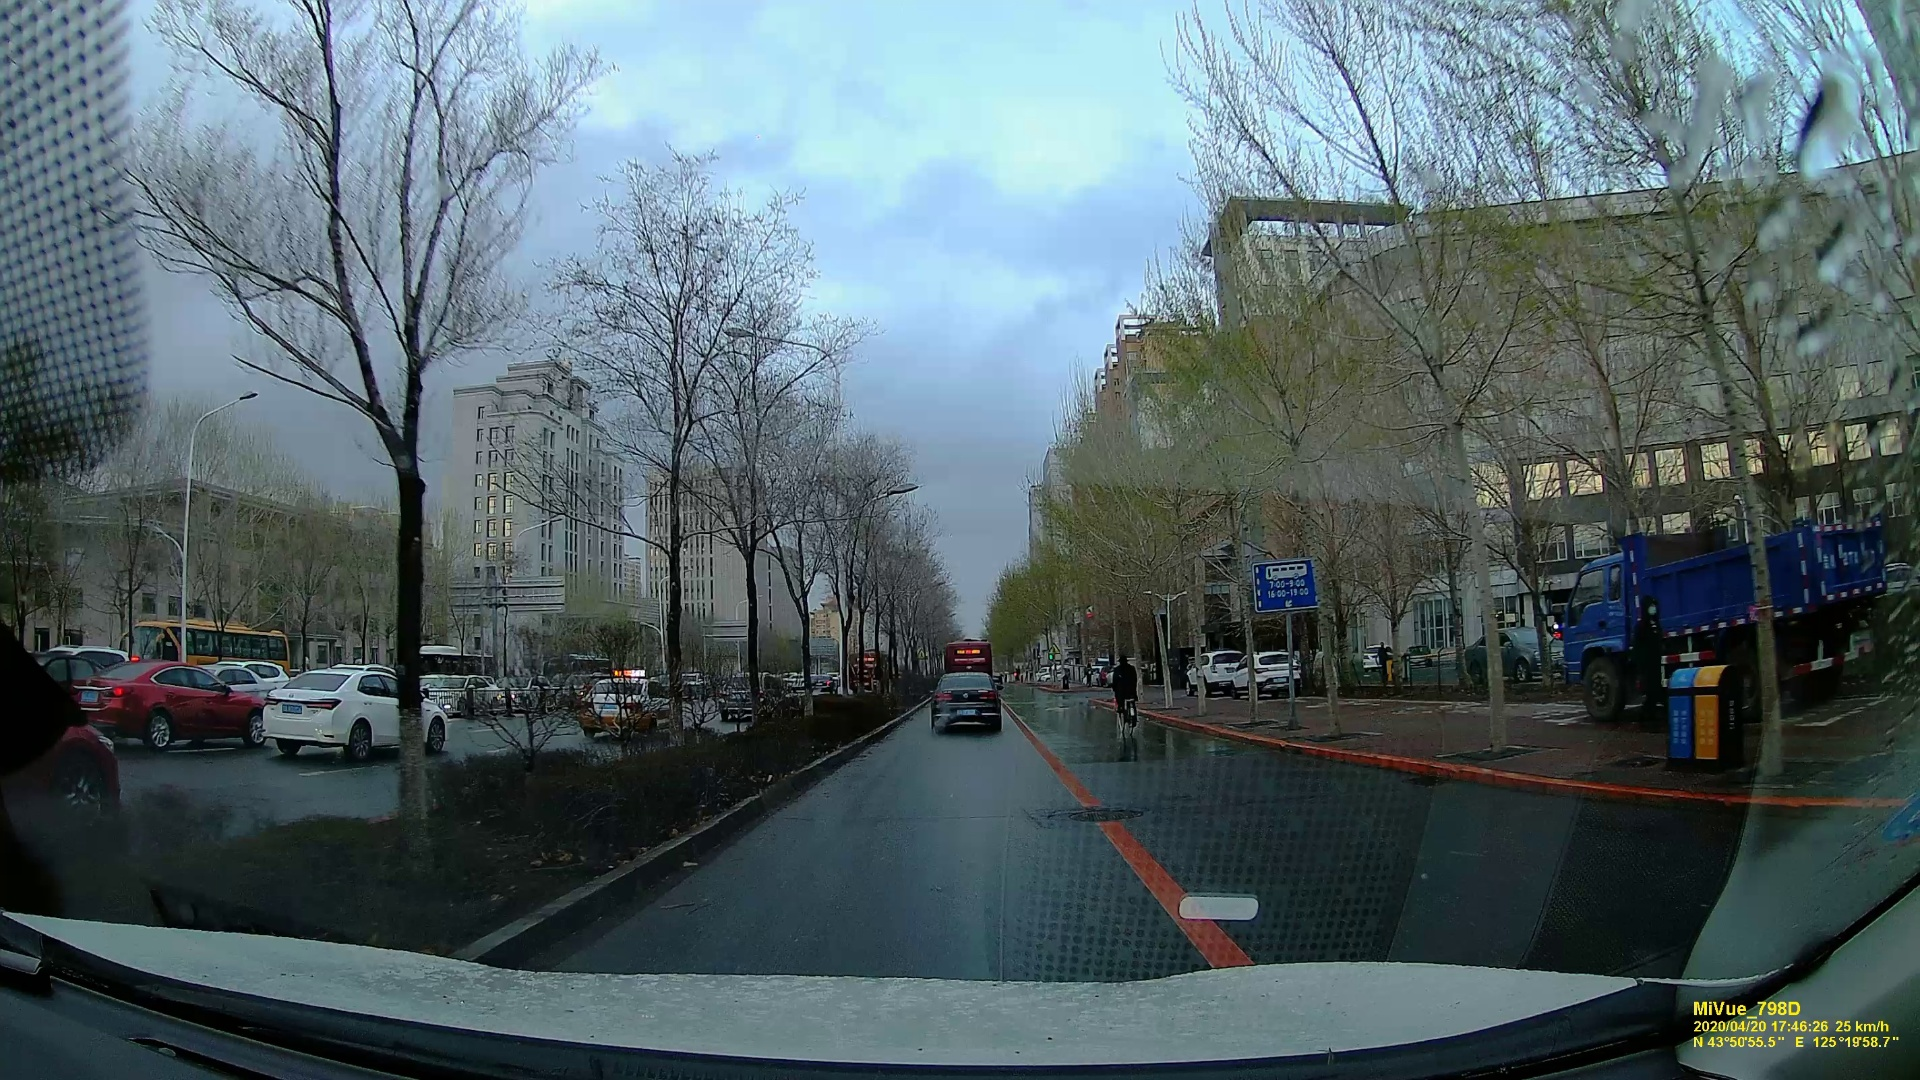bus: (942, 639, 991, 676)
person: (1108, 654, 1136, 740)
traffic_sign: (1254, 559, 1319, 611)
truck: (1565, 530, 1881, 712)
vehicle: (73, 653, 264, 752), (270, 665, 446, 762), (584, 673, 671, 735), (931, 676, 1002, 735)
